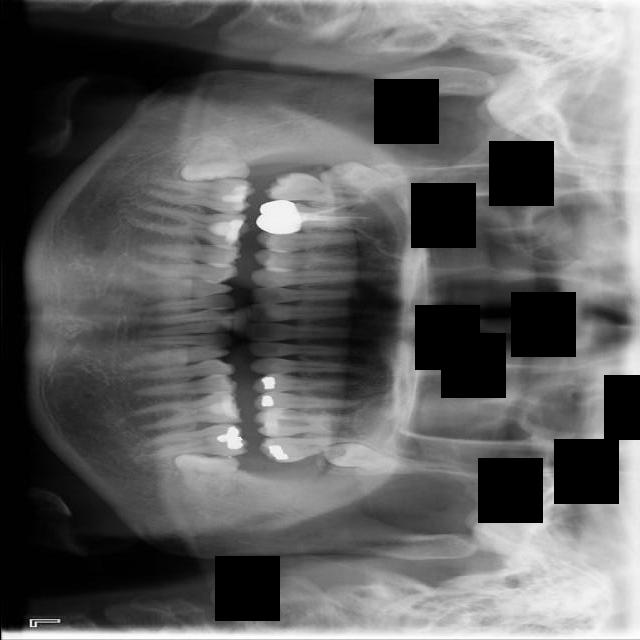3M ESPE Implant: (318, 158, 402, 194)
52: (204, 171, 255, 220), (202, 211, 251, 250), (253, 199, 301, 236), (251, 409, 308, 438), (199, 390, 242, 427), (201, 424, 248, 456), (257, 436, 311, 463), (251, 247, 295, 273), (252, 390, 296, 412), (196, 262, 236, 284), (202, 244, 240, 267), (253, 374, 294, 393)
73: (294, 195, 370, 230), (68, 578, 81, 579)
BioHorizons Implant: (260, 437, 361, 463), (256, 445, 270, 456)
BioLife Implant: (322, 442, 400, 469)
Biomet 3i Implant: (170, 451, 240, 502)
Blue Sky Bio Implant: (140, 423, 249, 460)
Caries: (261, 169, 380, 209)
Implant: (145, 177, 254, 214)
Keystone Dental Implant: (178, 134, 250, 183)
